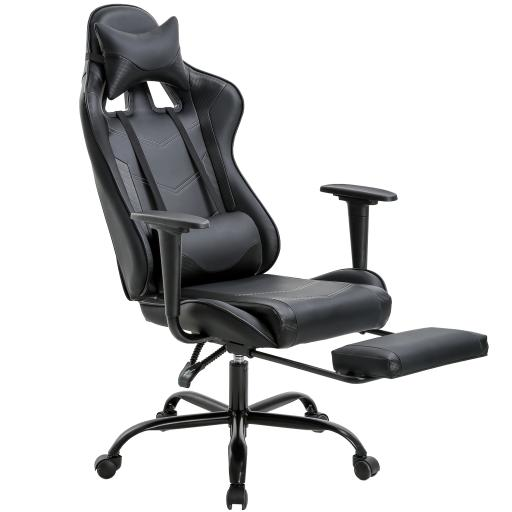chair: (79, 4, 489, 510)
